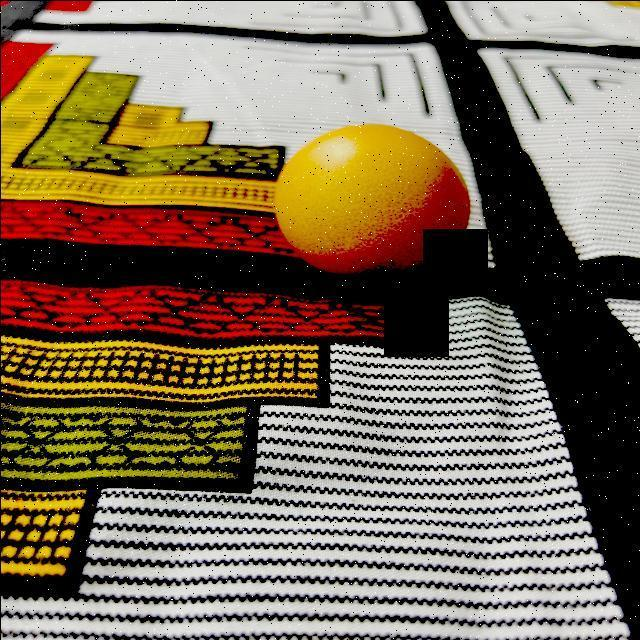egg: (268, 121, 468, 283)
